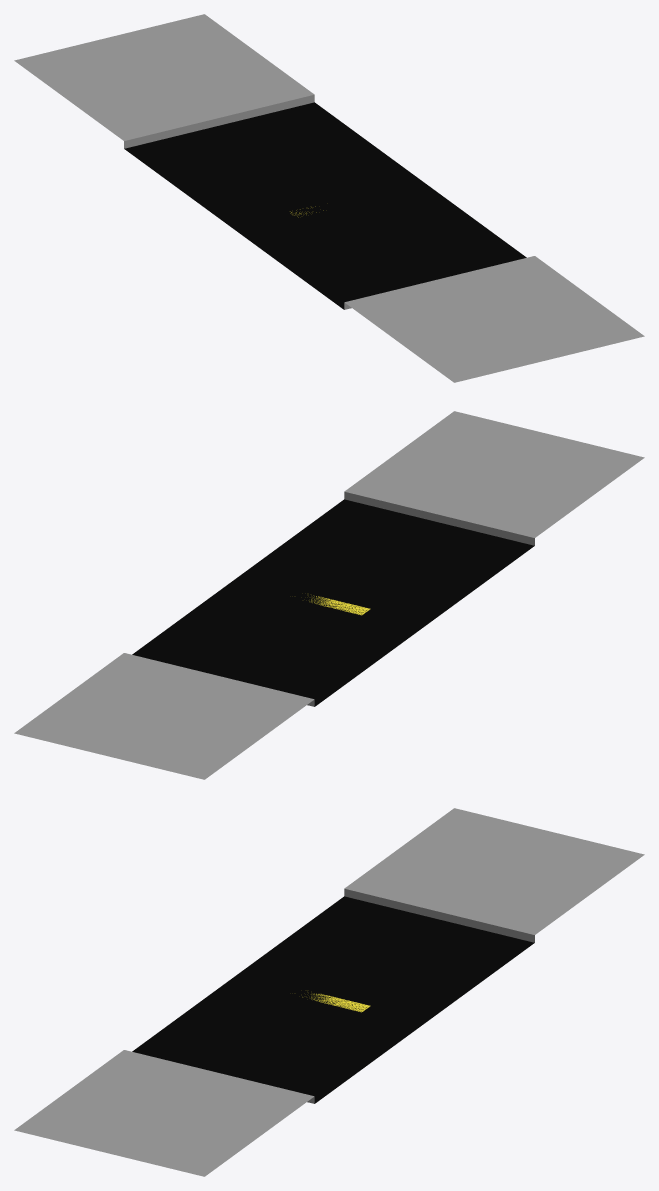
File: lp-rua.gltf
3 views of the same model, one above another, from view 1: azimuth 30°, elevation 25°; view 2: azimuth 150°, elevation 25°; view 3: azimuth 330°, elevation 25° (orthographic).
Parts seen in each view (by area): view 1: Plane; view 2: Plane; view 3: Plane.
Boxes of the visible parts, left/top/right/bottom form: Plane: left=14, top=14, right=644, bottom=382; Plane: left=14, top=411, right=644, bottom=779; Plane: left=14, top=808, right=644, bottom=1176.
Size of the model in its own units: 2 by 0.0771 by 8.
1 material, 1 textured.
